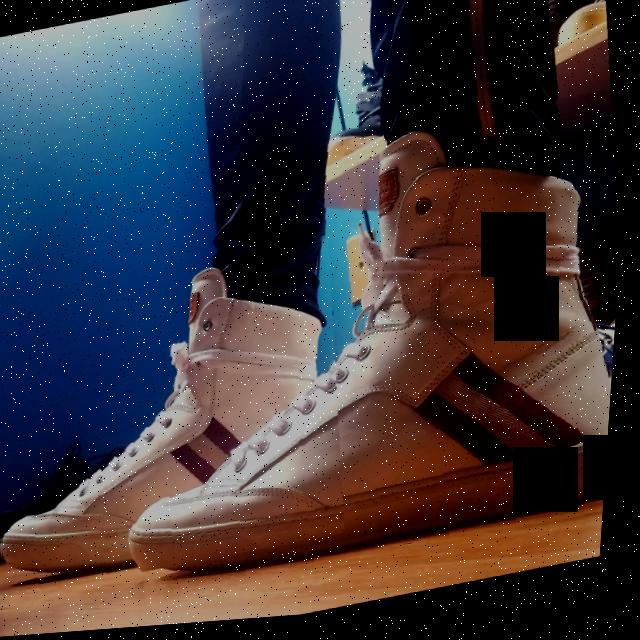shoe: (82, 98, 633, 616), (0, 233, 369, 602)
